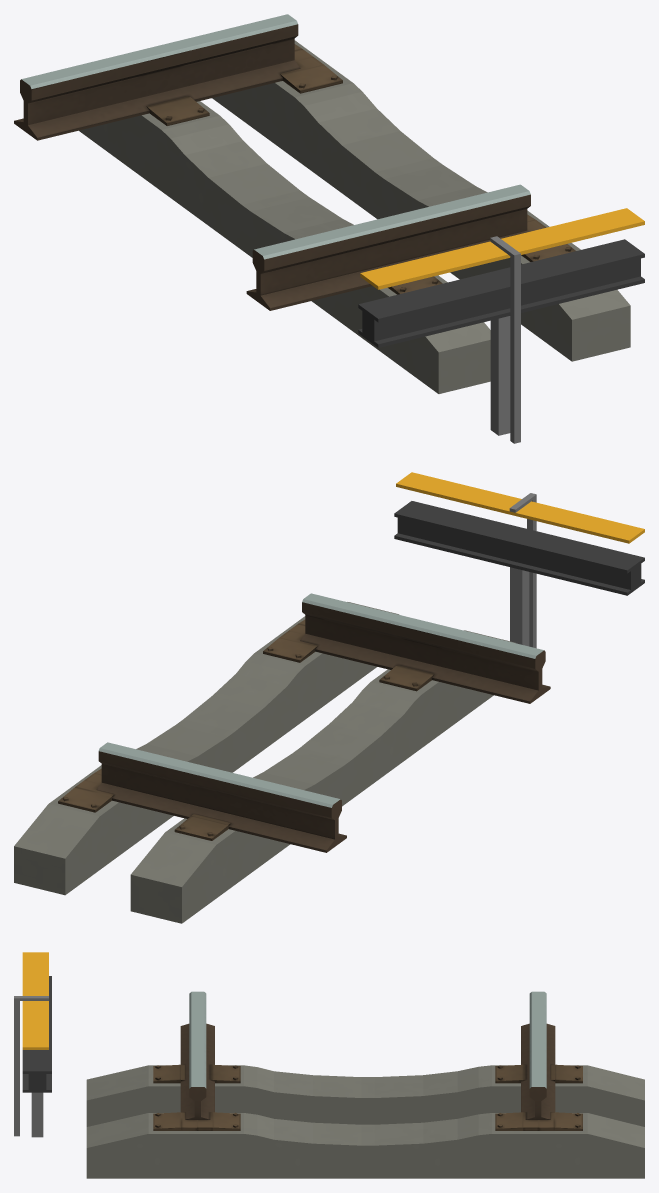
File: spsf_tracks_concrete_3rdrail_left.obj
3 views of the same model, one above another, from view 1: azimuth 30°, elevation 25°; view 2: azimuth 150°, elevation 25°; view 3: azimuth 270°, elevation 25° (orthographic). The views are drawn at different scales.
Parts seen in each view (by area): view 1: RAIL_BASE.006_Cube_Cube.004, RAIL_BASE.004, RAIL_RIGHT_Cube.010, RAIL_LEFT_Cube.002, RAIL_BASE.005_Cube.003; view 2: RAIL_BASE.006_Cube_Cube.004, RAIL_BASE.004, RAIL_RIGHT_Cube.010, RAIL_LEFT_Cube.002, RAIL_BASE.005_Cube.003; view 3: RAIL_BASE.006_Cube_Cube.004, RAIL_BASE.004, RAIL_BASE.005_Cube.003, RAIL_RIGHT_Cube.010, RAIL_LEFT_Cube.002.
Boxes of the visible parts, <box> form: RAIL_BASE.006_Cube_Cube.004: <box>79,40,630,393</box>; RAIL_BASE.004: <box>358,208,644,443</box>; RAIL_RIGHT_Cube.010: <box>14,14,300,140</box>; RAIL_LEFT_Cube.002: <box>246,184,530,310</box>; RAIL_BASE.005_Cube.003: <box>146,44,575,294</box>; RAIL_BASE.006_Cube_Cube.004: <box>14,602,515,923</box>; RAIL_BASE.004: <box>394,472,644,648</box>; RAIL_RIGHT_Cube.010: <box>96,742,346,852</box>; RAIL_LEFT_Cube.002: <box>300,593,550,703</box>; RAIL_BASE.005_Cube.003: <box>58,619,434,840</box>; RAIL_BASE.006_Cube_Cube.004: <box>86,1065,644,1178</box>; RAIL_BASE.004: <box>14,952,51,1137</box>; RAIL_BASE.005_Cube.003: <box>153,1064,582,1130</box>; RAIL_RIGHT_Cube.010: <box>521,991,555,1119</box>; RAIL_LEFT_Cube.002: <box>180,991,214,1119</box>.
Size of the model in its own units: 1.11 by 0.6752 by 2.8.
3 materials, 3 textured.
